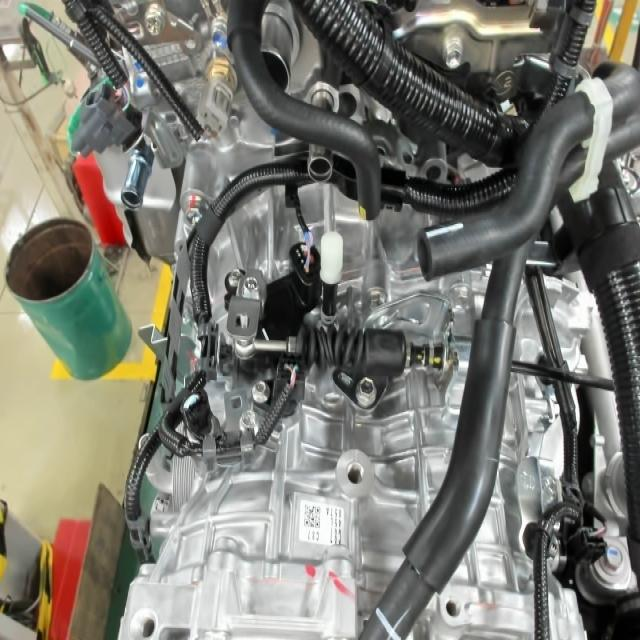Transaxele-C87-A27: (303, 524, 343, 546)
